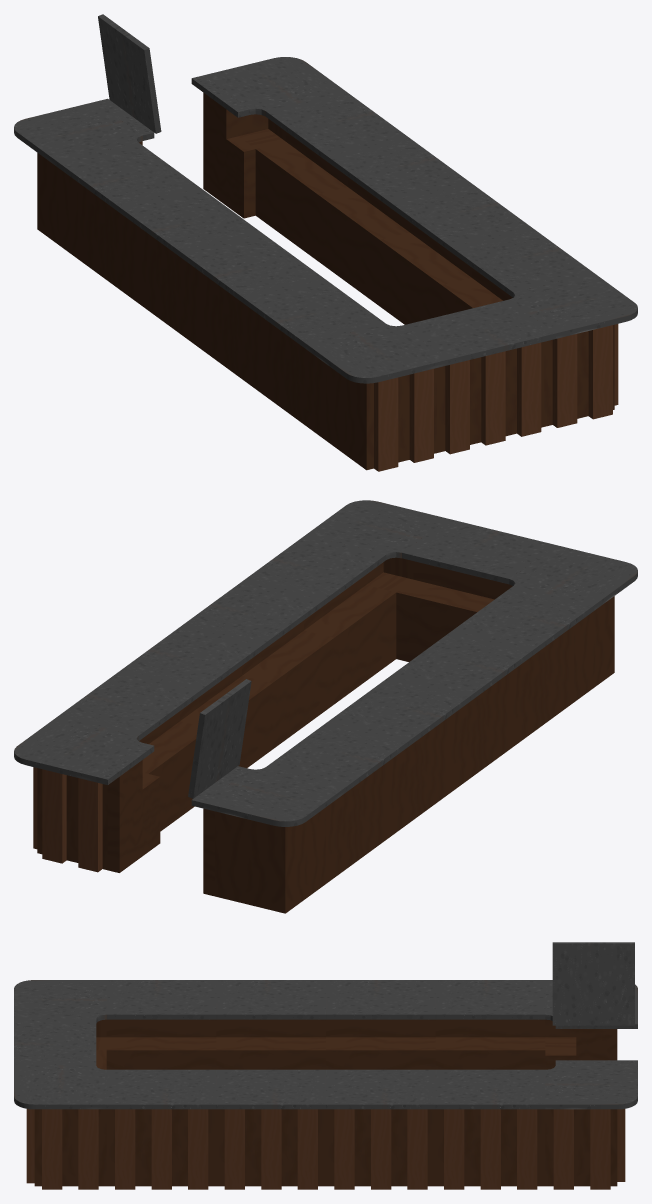
Rendered from BarraLight.fbx.
3 renders of one model, top to bottom at view 1: azimuth 30°, elevation 25°; view 2: azimuth 150°, elevation 25°; view 3: azimuth 270°, elevation 25°, orthographic. The views are drawn at different scales.
Parts seen in each view (by area): view 1: Mostrador.004; view 2: Mostrador.004; view 3: Mostrador.004.
Part boxes in pixels (x1,y1,x2,y2): Mostrador.004: (14,14,637,471); Mostrador.004: (14,500,637,913); Mostrador.004: (14,942,637,1189).
Bounding box in the file's own units: 538 × 337 × 1138.
